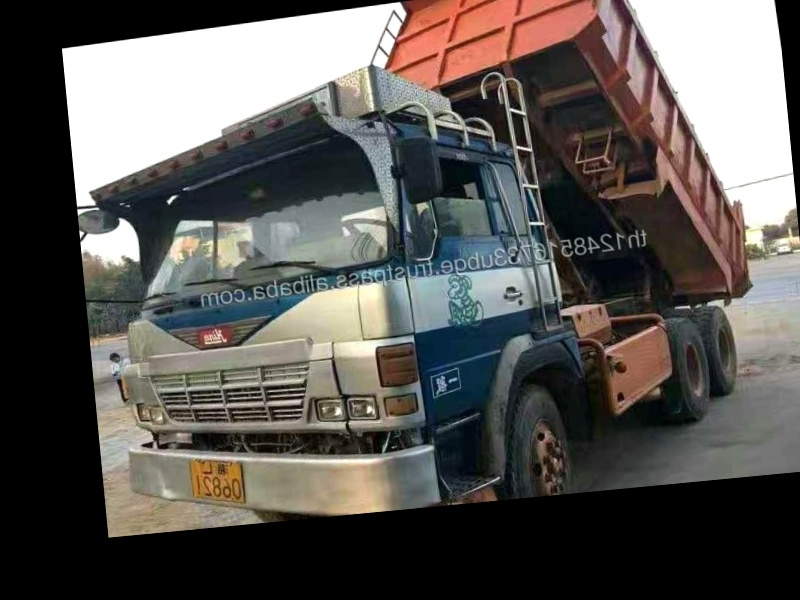truck: (68, 0, 784, 537)
